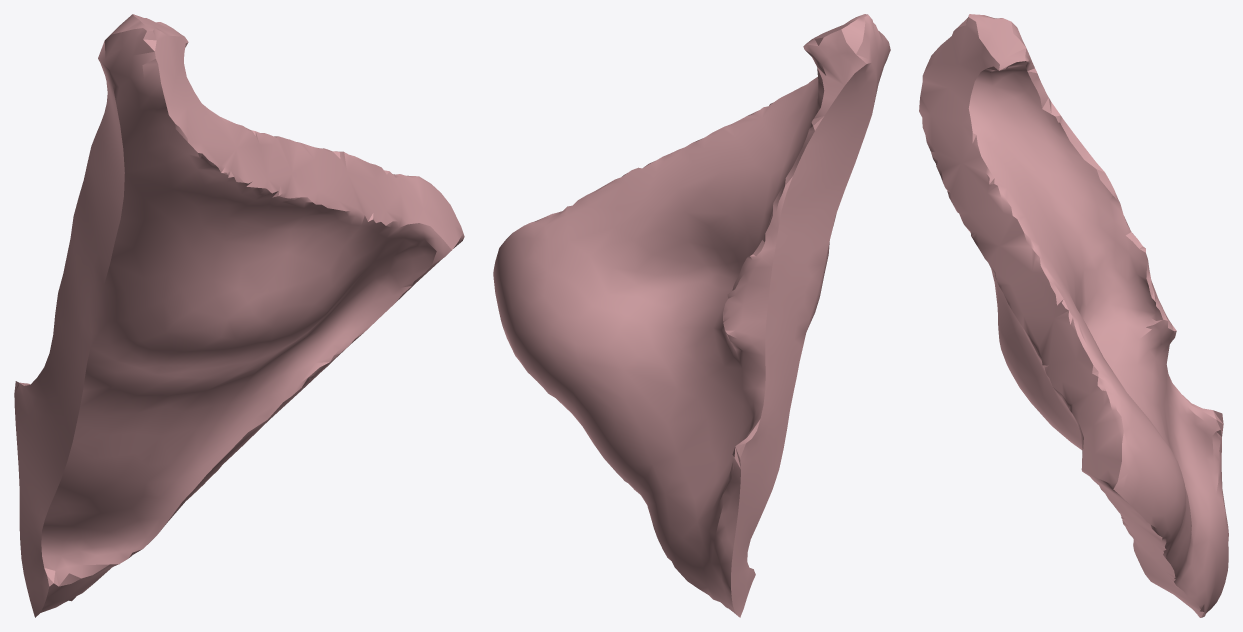
Rendered from fma74887-l_mm3143.glb.
3 views of the same model, side by side, from view 1: azimuth 30°, elevation 25°; view 2: azimuth 150°, elevation 25°; view 3: azimuth 270°, elevation 25° (orthographic). The views are drawn at different scales.
Parts seen in each view (by area): view 1: FMA74887-L_MM3143; view 2: FMA74887-L_MM3143; view 3: FMA74887-L_MM3143.
Part boxes in pixels (x1,y1,x2,y2): FMA74887-L_MM3143: (14, 14, 464, 617); FMA74887-L_MM3143: (493, 14, 890, 617); FMA74887-L_MM3143: (919, 14, 1228, 617).
Bounding box in the file's own units: 0.0187 × 0.0291 × 0.0139.
